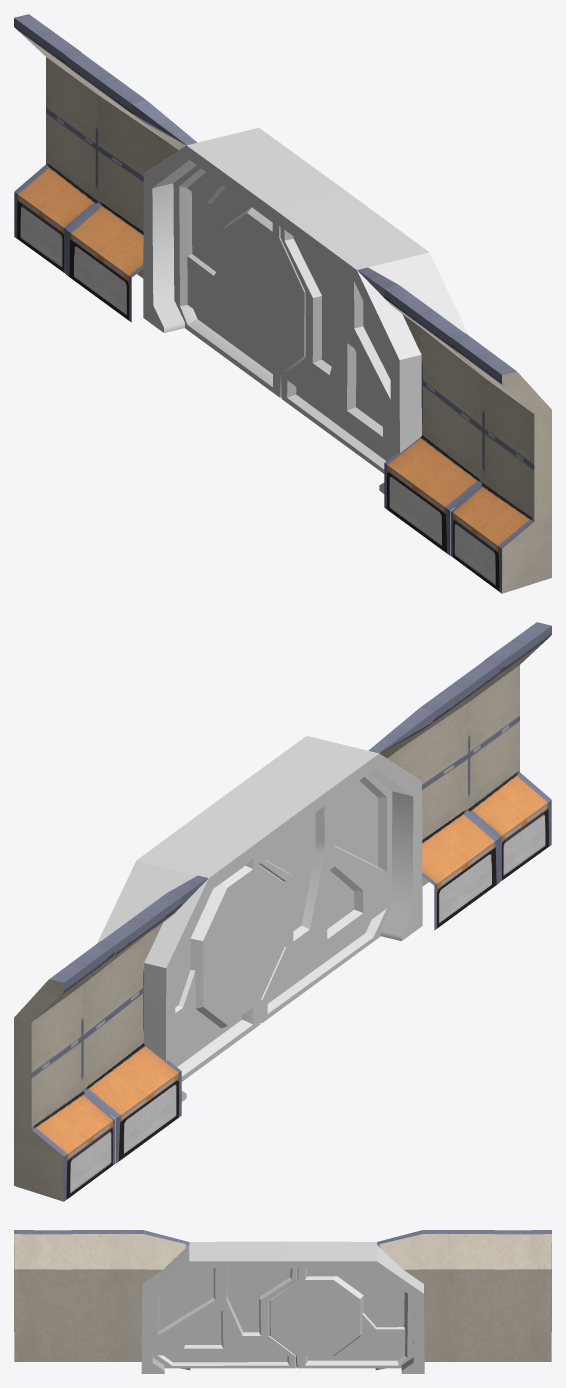
The model's file is door_low transparent.FBX.
3 renders of one model, top to bottom at view 1: azimuth 30°, elevation 25°; view 2: azimuth 150°, elevation 25°; view 3: azimuth 270°, elevation 25°, orthographic. The views are drawn at different scales.
Visible parts, largest first — view 1: wall_right, left, contour, right, Object002; view 2: wall_right, right, contour, left, Object002; view 3: wall_right, Object004, Object003, Object002, contour.
Part boxes in pixels (<box>): wall_right: <box>14,14,551,593</box>; left: <box>173,165,305,397</box>; contour: <box>143,136,421,493</box>; right: <box>280,227,390,473</box>; Object002: <box>223,127,468,335</box>; wall_right: <box>14,622,551,1201</box>; right: <box>259,773,392,1022</box>; contour: <box>144,744,422,1101</box>; left: <box>175,854,284,1081</box>; Object002: <box>97,736,342,943</box>; wall_right: <box>14,1230,551,1370</box>; Object004: <box>269,1268,414,1368</box>; Object003: <box>151,1268,297,1368</box>; Object002: <box>141,1251,424,1373</box>; contour: <box>164,1241,401,1268</box>.
Size of the model in its own units: 124 by 1213 by 316.
1 material, 1 textured.
